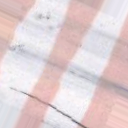crackTip: (8, 86, 90, 127)
